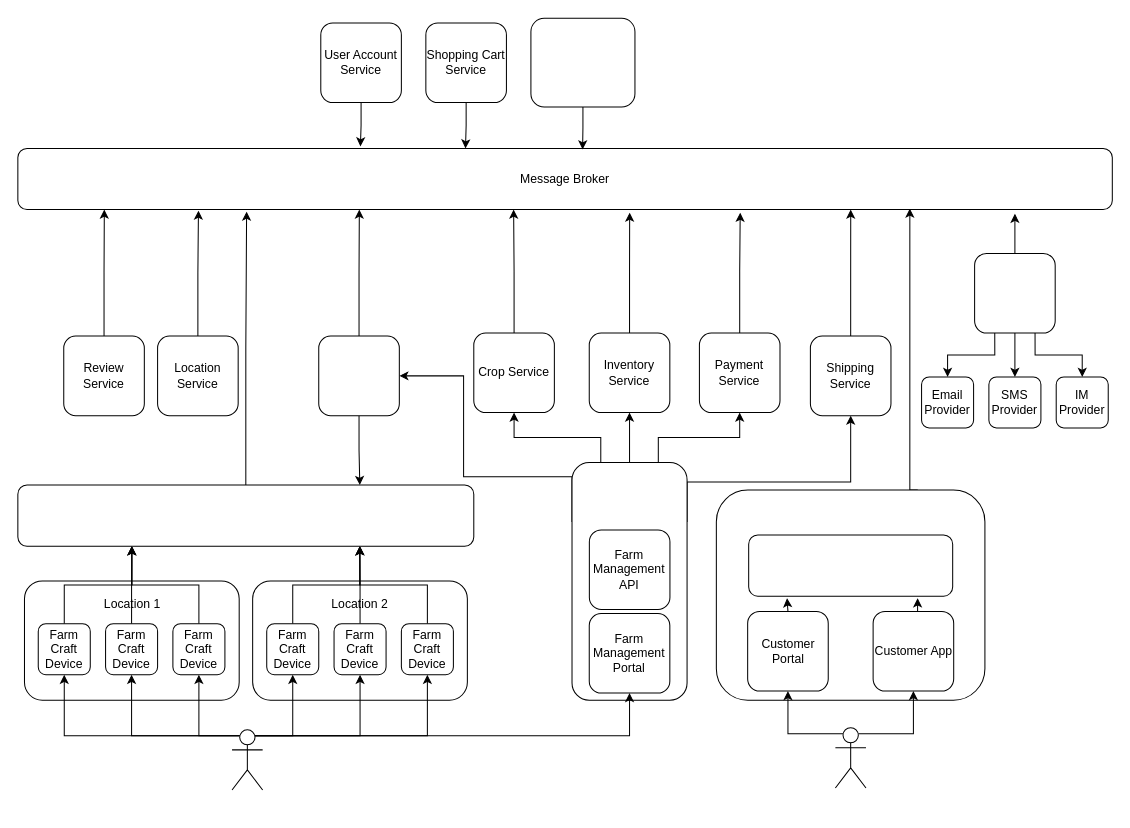
Some shapes in this 1130 by 828 pixel diagram are drawn without their labels. The shapes that lost their labels are listed below. From the top down, each one's box as (x1, y1, x2, y2) in pixels, then its label:
(530, 17, 635, 107): Recommendation Service
(974, 252, 1055, 333): Notification Service
(318, 335, 399, 416): Device Manager
(17, 484, 474, 546): IoT Hub
(571, 462, 687, 700): Farm Management Service
(748, 534, 953, 596): Customer API
(715, 489, 985, 700): Marketplace Service
(231, 729, 263, 790): Farmer
(834, 727, 866, 788): Consumer
